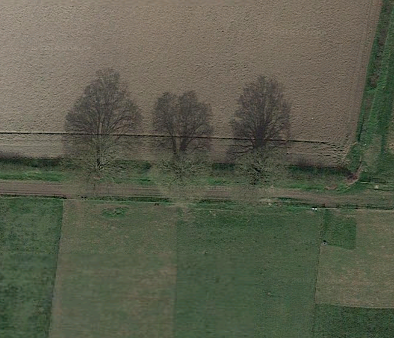tree: (52, 125, 147, 212), (222, 141, 306, 217), (147, 141, 226, 214)
